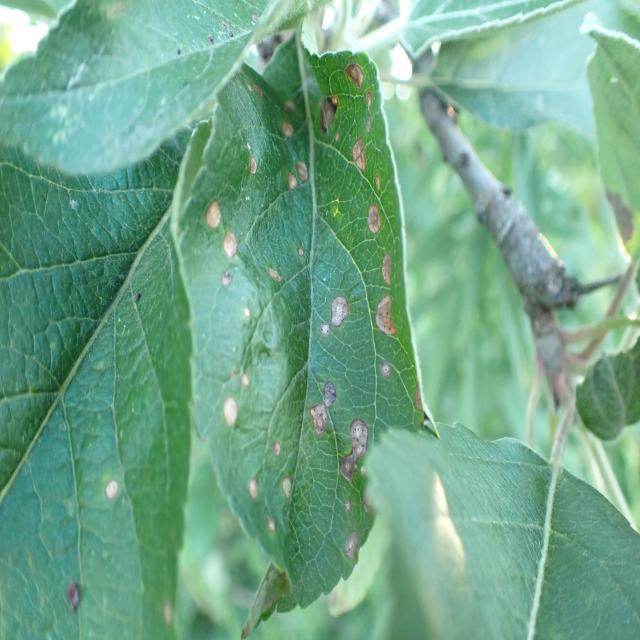Black Rot: (187, 44, 413, 620), (93, 465, 131, 526)
